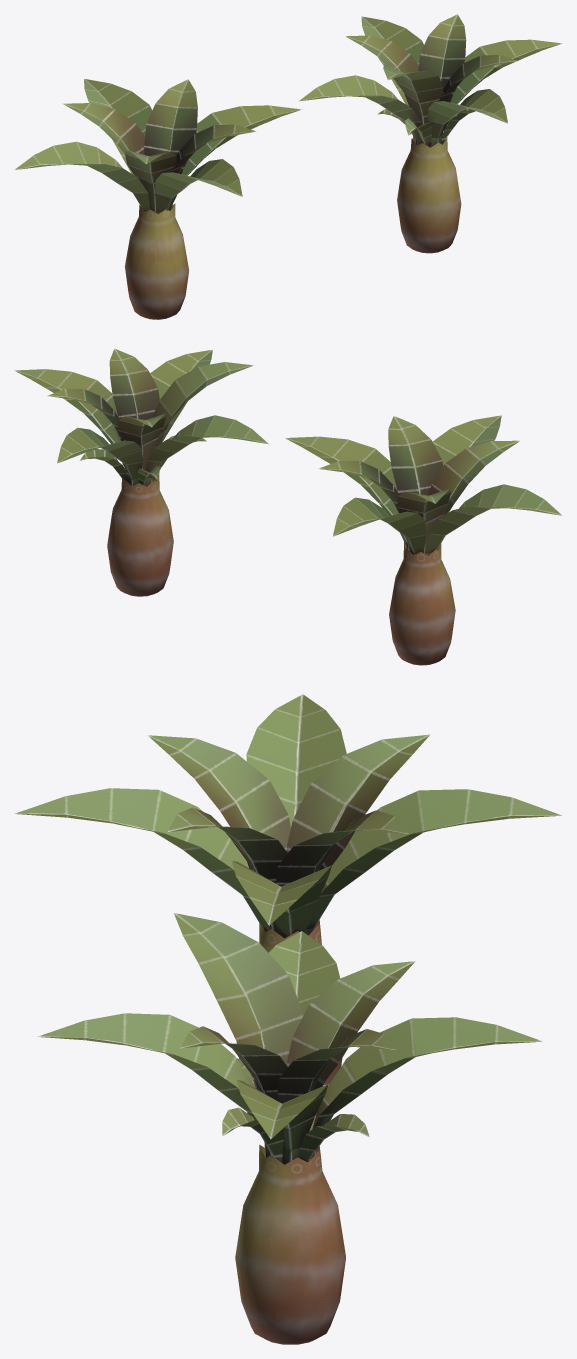
File: Pineapple.fbx
3 renders of one model, top to bottom at view 1: azimuth 30°, elevation 25°; view 2: azimuth 150°, elevation 25°; view 3: azimuth 270°, elevation 25°, orthographic. The views are drawn at different scales.
Parts seen in each view (by area): view 1: pineapple02.001, pineapple01; view 2: pineapple02.001, pineapple01; view 3: pineapple01, pineapple02.001.
Part boxes in pixels (x1,y1,x2,y2): pineapple02.001: (14, 78, 301, 319); pineapple01: (299, 14, 562, 253); pineapple02.001: (285, 415, 562, 665); pineapple01: (14, 348, 268, 596); pineapple01: (37, 913, 542, 1344); pineapple02.001: (14, 694, 561, 1084).
Size of the model in its own units: 909 by 1758 by 651.
Materials: 2 (2 with a texture image).
